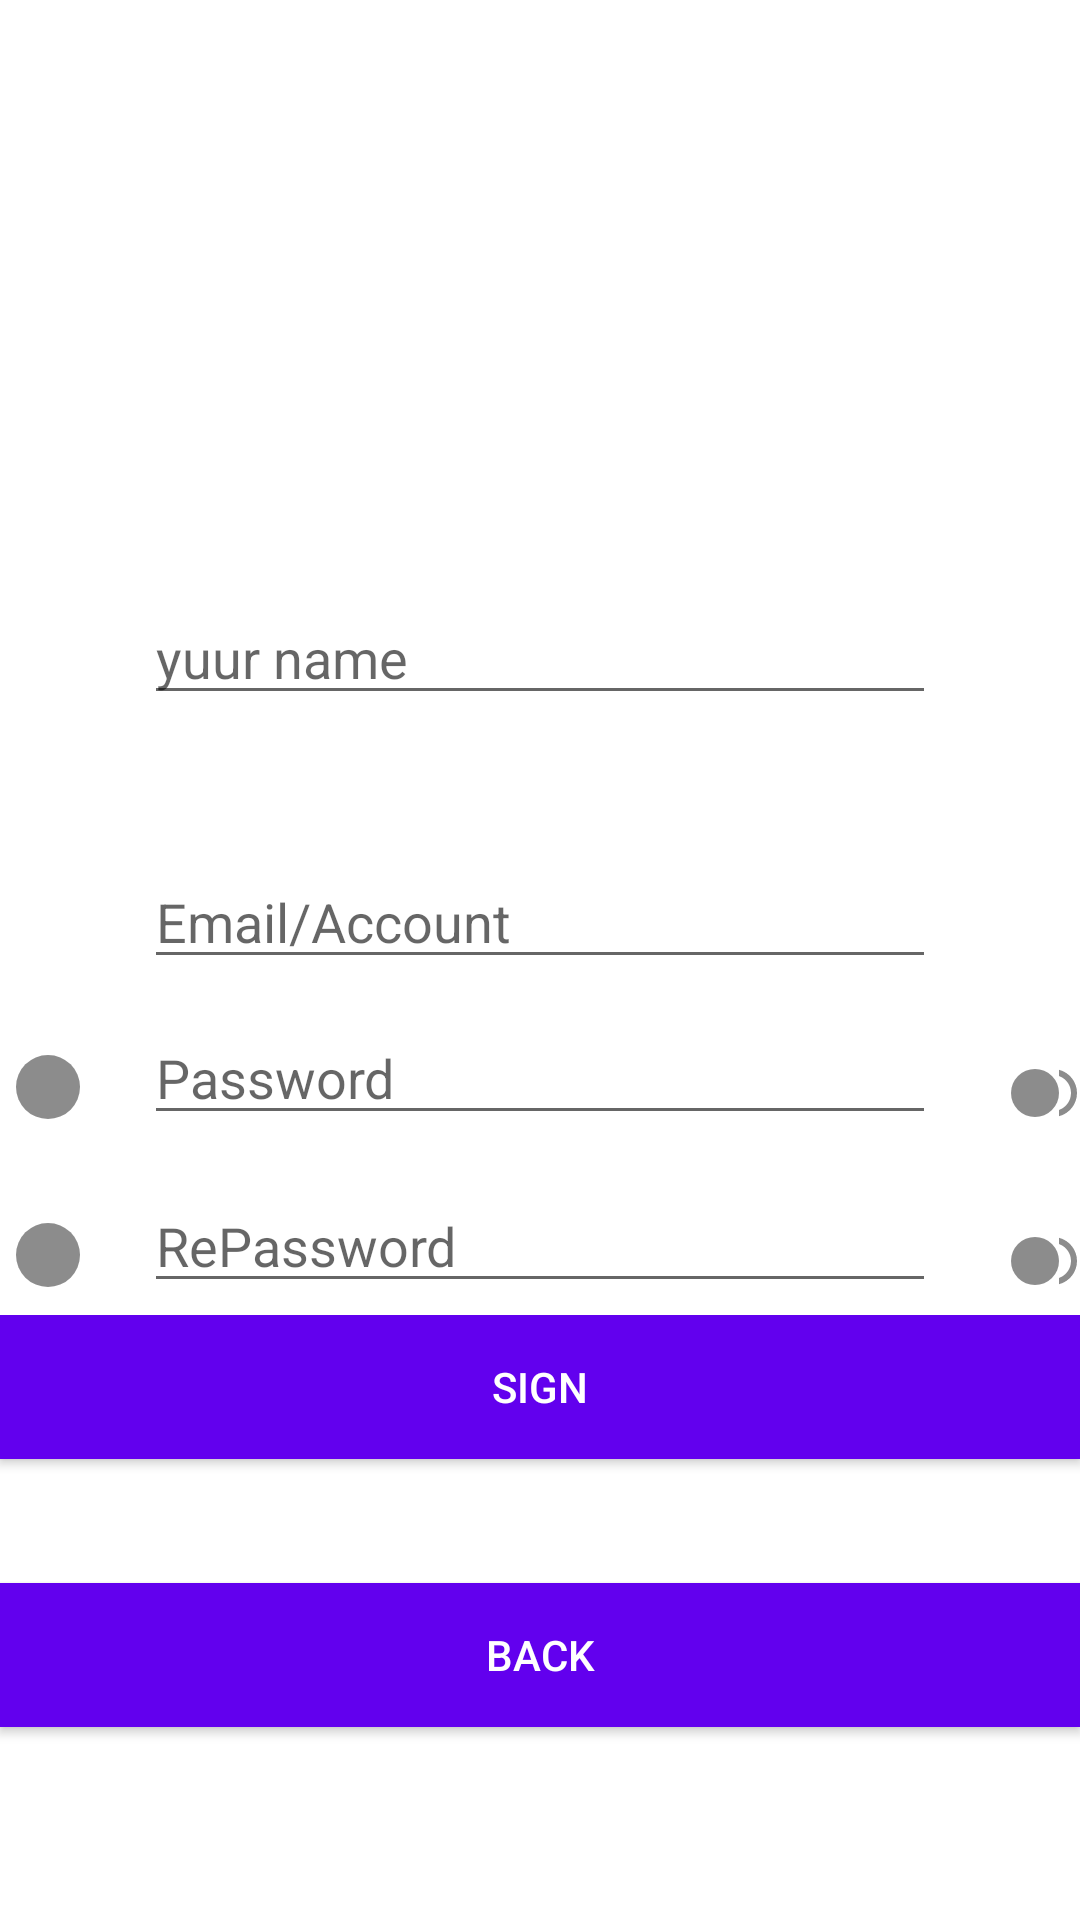

Locate icon controls on the screen. Image size 1080w x 1920h, boxes as (x1, y1, x2, y2).
fiber manual record: (16, 1055, 80, 1119), (16, 1223, 80, 1287)
fiber smart record: (1011, 1069, 1077, 1117), (1011, 1237, 1077, 1285)
